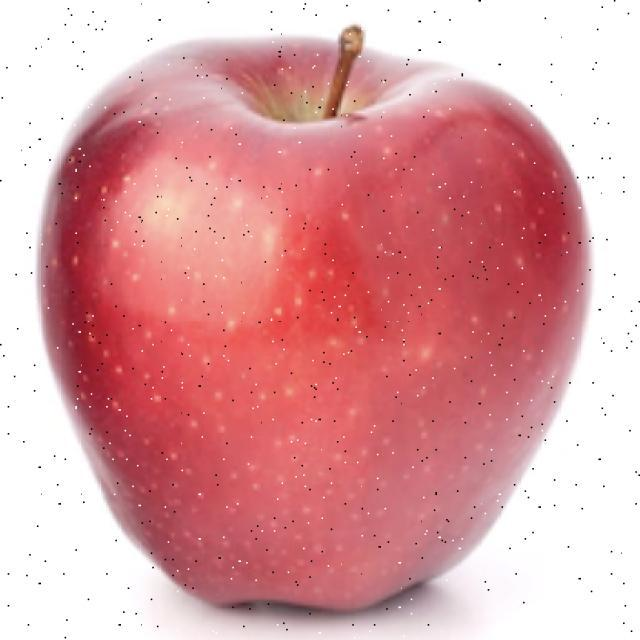Fresh Apple: (75, 37, 585, 603)
